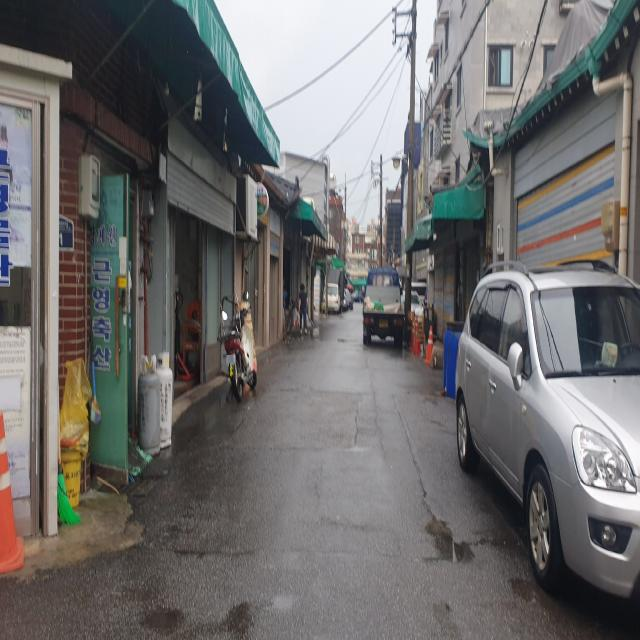car: (454, 239, 640, 613), (362, 268, 405, 354)
motorbike: (213, 289, 258, 404)
